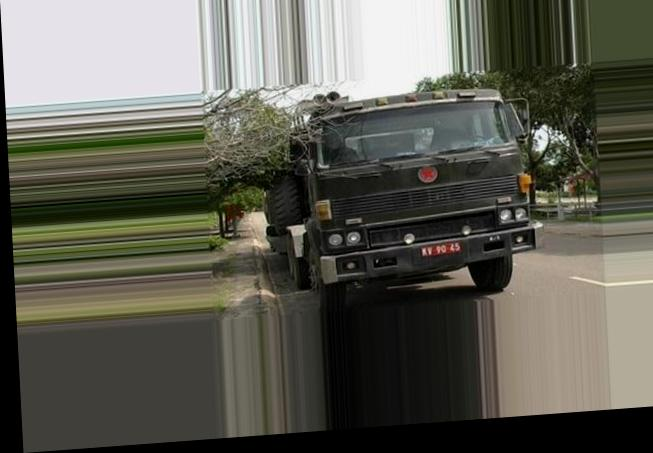License_Plate: (418, 240, 466, 259)
